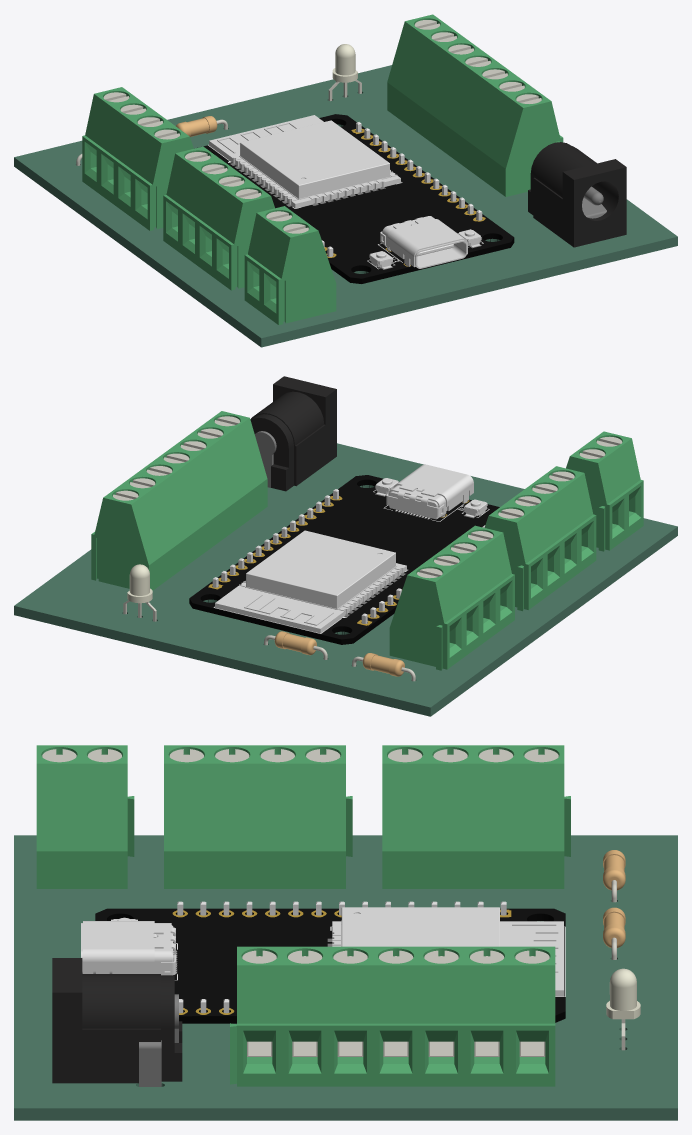
Rendered from OGEMTN.fbx.
The picture shows the model from 3 angles, top to bottom: view 1: azimuth 30°, elevation 25°; view 2: azimuth 150°, elevation 25°; view 3: azimuth 270°, elevation 25°; orthographic projection. The views are drawn at different scales.
Parts seen in each view (by area): view 1: =>[0:1:1:37], =>[0:1:1:36], TEST_ESP32 (Compound).004, TEST_ESP32 (Face).002, =>[0:1:1:5].001, =>[0:1:1:5], =>[0:1:1:34], =>[0:1:1:3], TEST_ESP32 (Compound).006, TEST_ESP32 (Compound).013, =>[0:1:1:7], TEST_ESP32 (Compound).010 (+2 smaller); view 2: =>[0:1:1:37], =>[0:1:1:36], =>[0:1:1:5], TEST_ESP32 (Compound).004, TEST_ESP32 (Face).002, =>[0:1:1:5].001, =>[0:1:1:3], =>[0:1:1:34], TEST_ESP32 (Compound).006, TEST_ESP32 (Compound).013, =>[0:1:1:7], TEST_ESP32 (Compound).010 (+3 smaller); view 3: =>[0:1:1:37], =>[0:1:1:36], =>[0:1:1:5], =>[0:1:1:5].001, =>[0:1:1:3], =>[0:1:1:34], TEST_ESP32 (Face).002, TEST_ESP32 (Compound).004, TEST_ESP32 (Compound).006, =>[0:1:1:7], TEST_ESP32 (Compound).012, TEST_ESP32 (Compound).013 (+3 smaller).
Part boxes in pixels (left/top/right/bottom): =>[0:1:1:37]: left=14, top=65, right=677, bottom=347; =>[0:1:1:36]: left=387, top=14, right=563, bottom=196; TEST_ESP32 (Compound).004: left=209, top=115, right=400, bottom=208; TEST_ESP32 (Face).002: left=197, top=114, right=513, bottom=278; =>[0:1:1:5].001: left=163, top=146, right=274, bottom=290; =>[0:1:1:5]: left=82, top=87, right=193, bottom=230; =>[0:1:1:34]: left=244, top=206, right=336, bottom=324; =>[0:1:1:3]: left=528, top=142, right=626, bottom=247; TEST_ESP32 (Compound).006: left=380, top=216, right=467, bottom=268; TEST_ESP32 (Compound).013: left=211, top=118, right=514, bottom=283; =>[0:1:1:7]: left=328, top=44, right=361, bottom=101; TEST_ESP32 (Compound).010: left=356, top=122, right=482, bottom=220; =>[0:1:1:37]: left=14, top=443, right=677, bottom=716; =>[0:1:1:36]: left=91, top=411, right=267, bottom=590; =>[0:1:1:5]: left=389, top=525, right=514, bottom=670; TEST_ESP32 (Compound).004: left=215, top=530, right=406, bottom=633; TEST_ESP32 (Face).002: left=189, top=475, right=499, bottom=639; =>[0:1:1:5].001: left=484, top=466, right=596, bottom=611; =>[0:1:1:3]: left=250, top=376, right=336, bottom=491; =>[0:1:1:34]: left=566, top=431, right=643, bottom=551; TEST_ESP32 (Compound).006: left=386, top=464, right=473, bottom=519; TEST_ESP32 (Compound).013: left=189, top=479, right=492, bottom=644; =>[0:1:1:7]: left=123, top=564, right=156, bottom=621; TEST_ESP32 (Compound).010: left=212, top=489, right=338, bottom=587; =>[0:1:1:37]: left=14, top=835, right=677, bottom=1120; =>[0:1:1:36]: left=230, top=946, right=555, bottom=1086; =>[0:1:1:5]: left=382, top=745, right=570, bottom=888; =>[0:1:1:5].001: left=164, top=745, right=352, bottom=888; =>[0:1:1:3]: left=52, top=958, right=182, bottom=1086; =>[0:1:1:34]: left=36, top=745, right=134, bottom=888; TEST_ESP32 (Face).002: left=95, top=908, right=565, bottom=1016; TEST_ESP32 (Compound).004: left=332, top=907, right=563, bottom=996; TEST_ESP32 (Compound).006: left=81, top=921, right=176, bottom=975; =>[0:1:1:7]: left=606, top=968, right=640, bottom=1050; TEST_ESP32 (Compound).012: left=177, top=901, right=506, bottom=915; TEST_ESP32 (Compound).013: left=107, top=910, right=565, bottom=1023.
Size of the model in its own units: 7.1 by 2.31 by 7.3.
